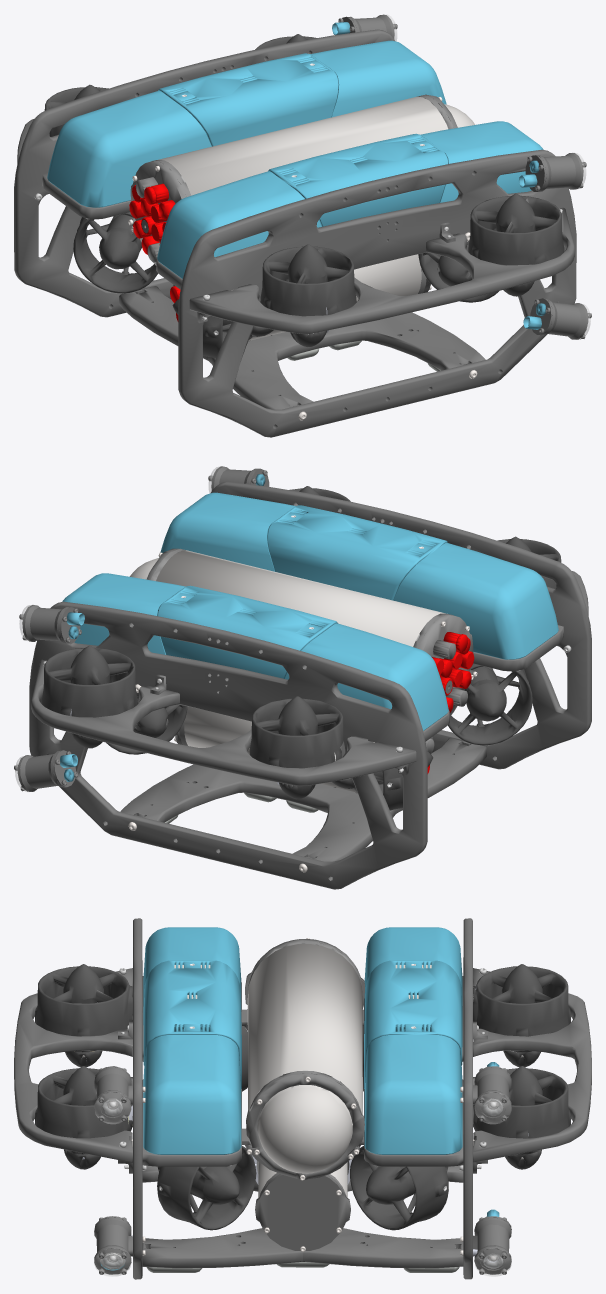
File: bluerov2_heavy.dae
3 views of the same model, one above another, from view 1: azimuth 30°, elevation 25°; view 2: azimuth 150°, elevation 25°; view 3: azimuth 270°, elevation 25° (orthographic).
Visible parts, largest first — view 1: BROV2-HEAVY-45; view 2: BROV2-HEAVY-45; view 3: BROV2-HEAVY-45.
Boxes of the visible parts, box(x1,y1,x2,y2) form: BROV2-HEAVY-45: box(14, 14, 591, 437); BROV2-HEAVY-45: box(14, 466, 591, 889); BROV2-HEAVY-45: box(14, 918, 591, 1279).
Bounding box in the file's own units: 17.99 × 22.62 × 9.97.
